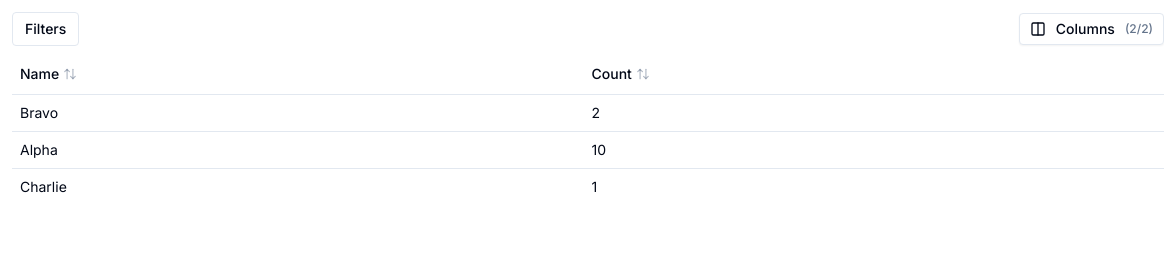
Scenario: AdminDataTable › shows the filter panel when toggled
This screenshot has width=1176, height=276.
Step 1. Click the button with test id "admin-data-table-filter-toggle" → (46, 29), box [12,12,79,46]
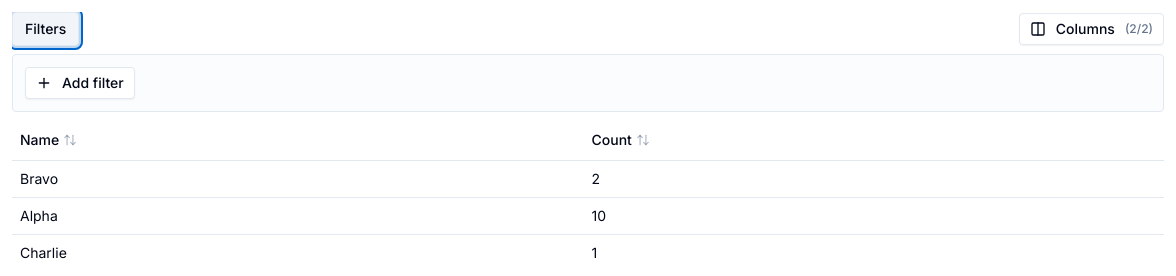
Expected: the element with test id "admin-data-table-filter" is shown, [12,54,1164,112]
